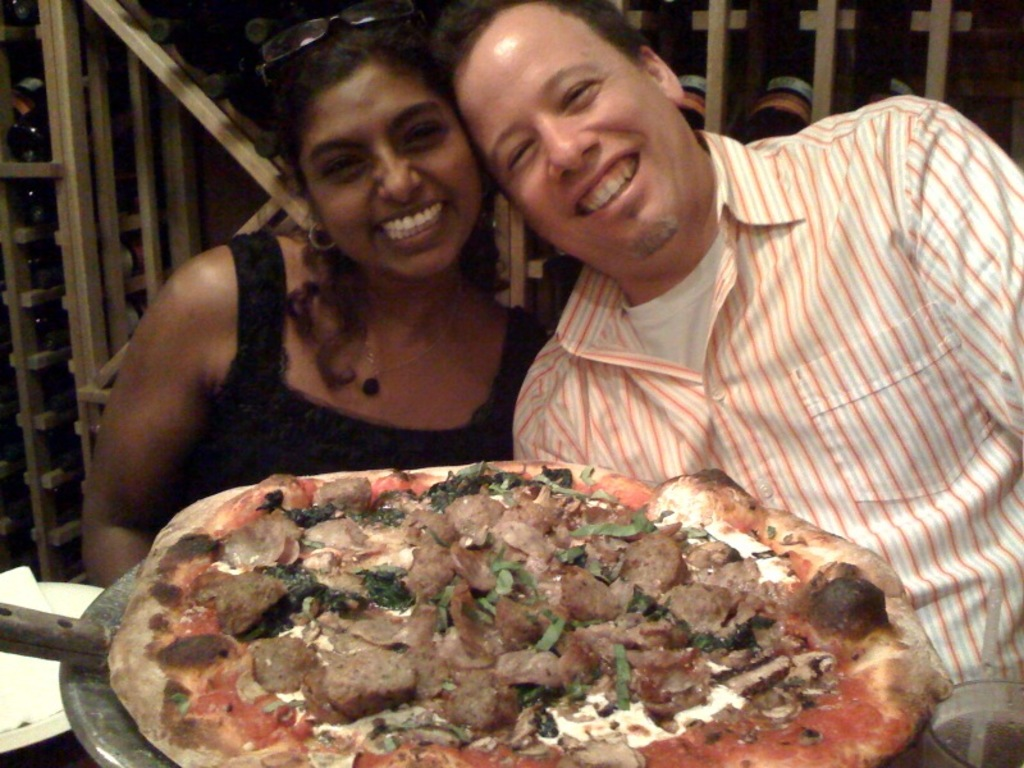Pizza: (89, 446, 913, 768)
